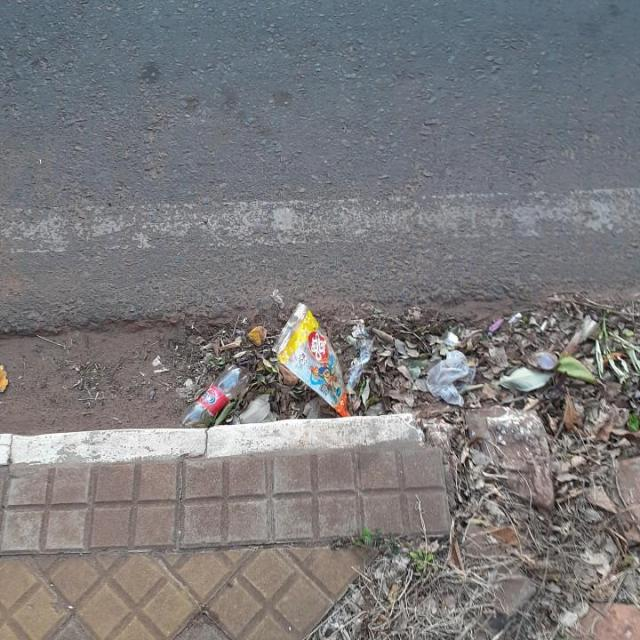litter: (271, 303, 346, 417), (175, 365, 250, 428)
